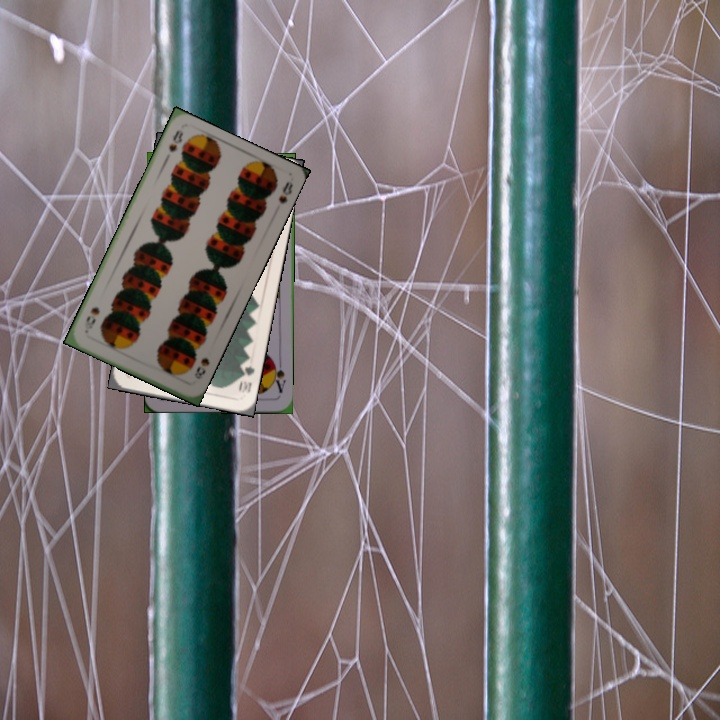G10: (234, 357, 257, 395)
S8: (190, 354, 212, 382), (165, 126, 186, 154)
SA: (269, 357, 288, 395)
